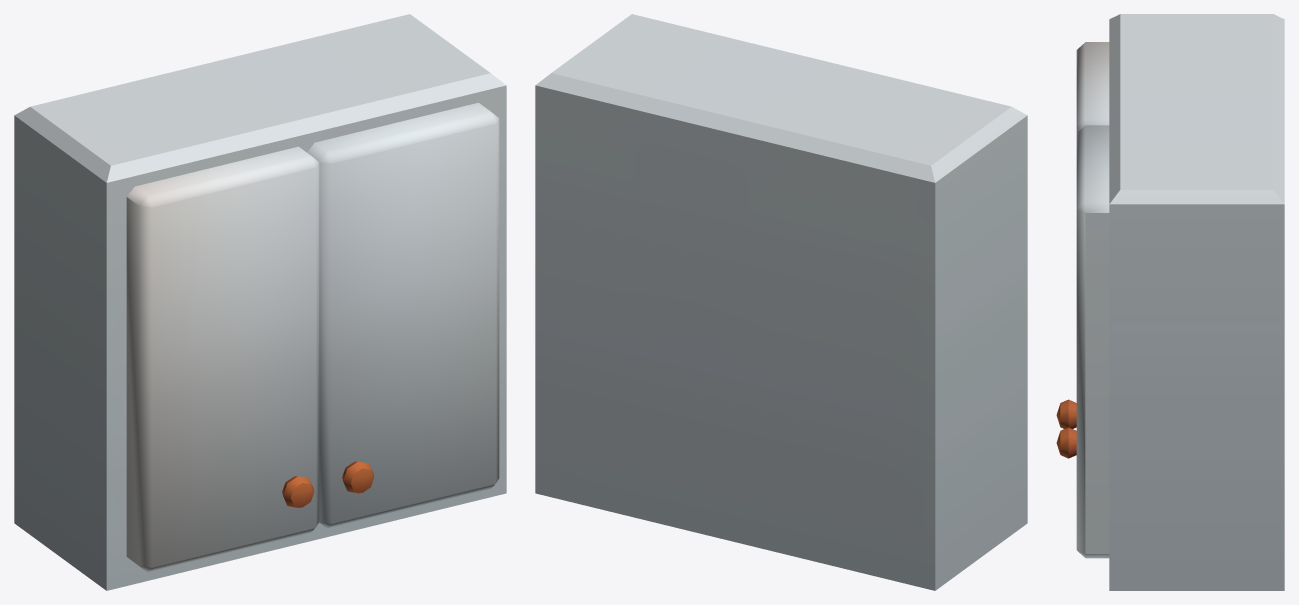
Rendered from kkr.kitchencabinet.glb.
3 views of the same model, side by side, from view 1: azimuth 30°, elevation 25°; view 2: azimuth 150°, elevation 25°; view 3: azimuth 270°, elevation 25° (orthographic). The views are drawn at different scales.
Visible parts, largest first — view 1: kitchencabinet; view 2: kitchencabinet; view 3: kitchencabinet.
Boxes of the visible parts, x1,y1,x2,y2 form: kitchencabinet: (14, 14, 506, 590); kitchencabinet: (535, 14, 1027, 590); kitchencabinet: (1056, 14, 1284, 590).
Size of the model in its own units: 1.49 by 1.49 by 0.7763.
Materials: 1 (1 with a texture image).
